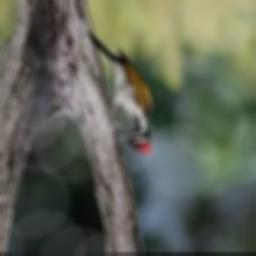Woodpecker: (88, 34, 152, 153)
